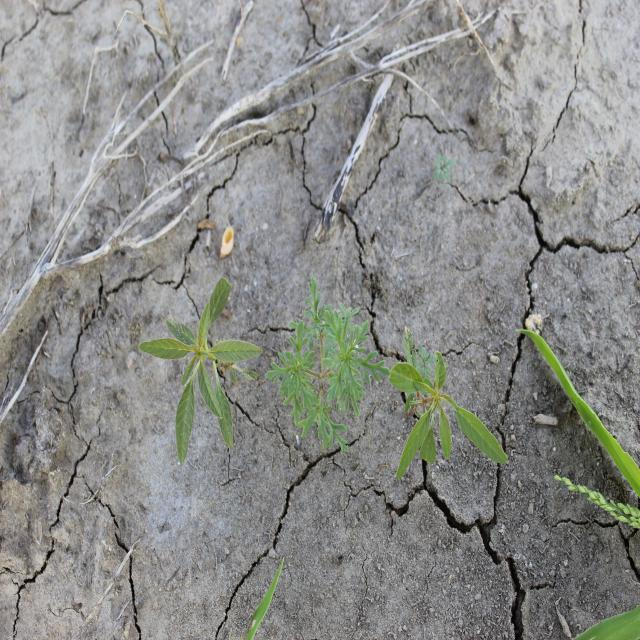Ragweed: (264, 273, 392, 454)
Waterhemp: (138, 276, 263, 468), (388, 326, 508, 480)
